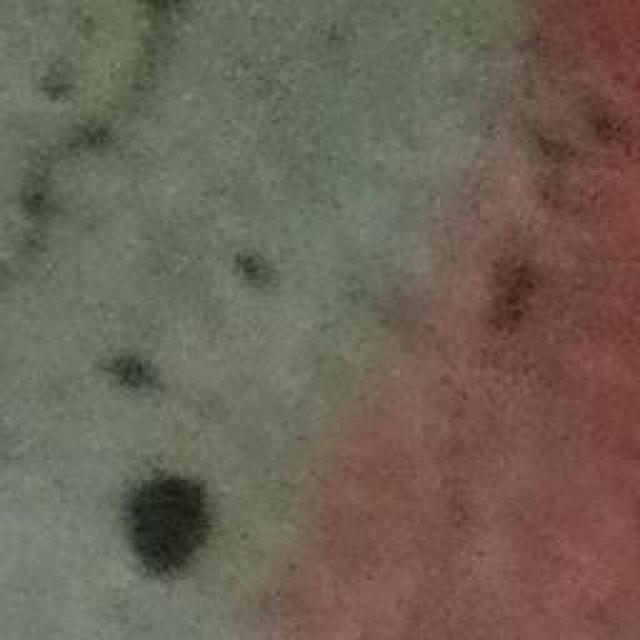Annular: (107, 432, 199, 580)
Diagonal: (5, 0, 166, 279)
